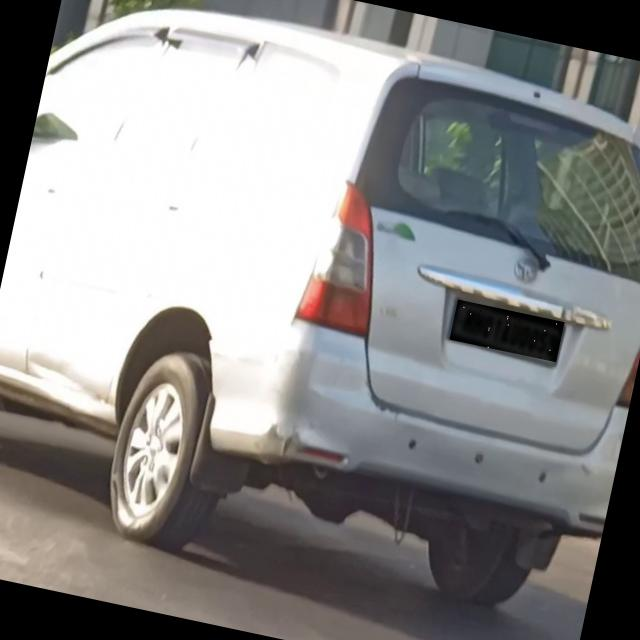Plate: (450, 300, 565, 363)
